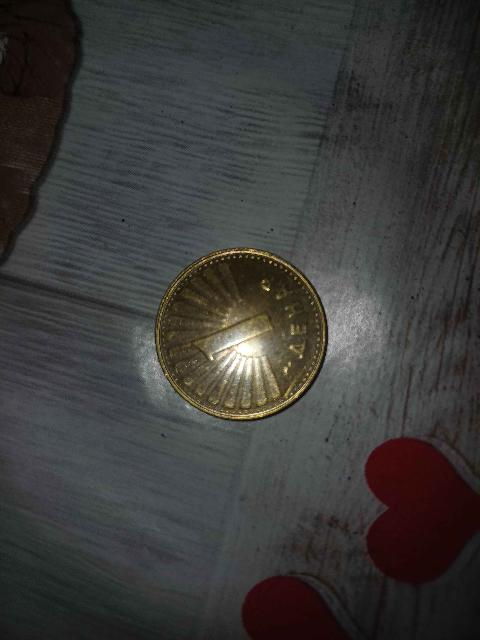1_coin: (156, 249, 326, 419)
